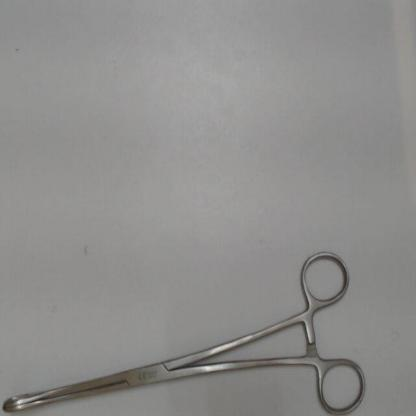Sponge Forceps: (0, 245, 370, 415)
